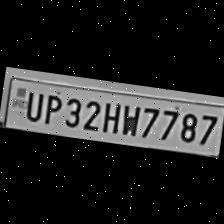2: (78, 95, 102, 131)
3: (59, 92, 83, 128)
7: (153, 104, 177, 141), (196, 109, 220, 146), (136, 103, 160, 139)
8: (174, 107, 200, 144)
H: (98, 98, 122, 134)
P: (40, 90, 62, 126)
U: (20, 86, 44, 122)
W: (118, 100, 142, 136)
